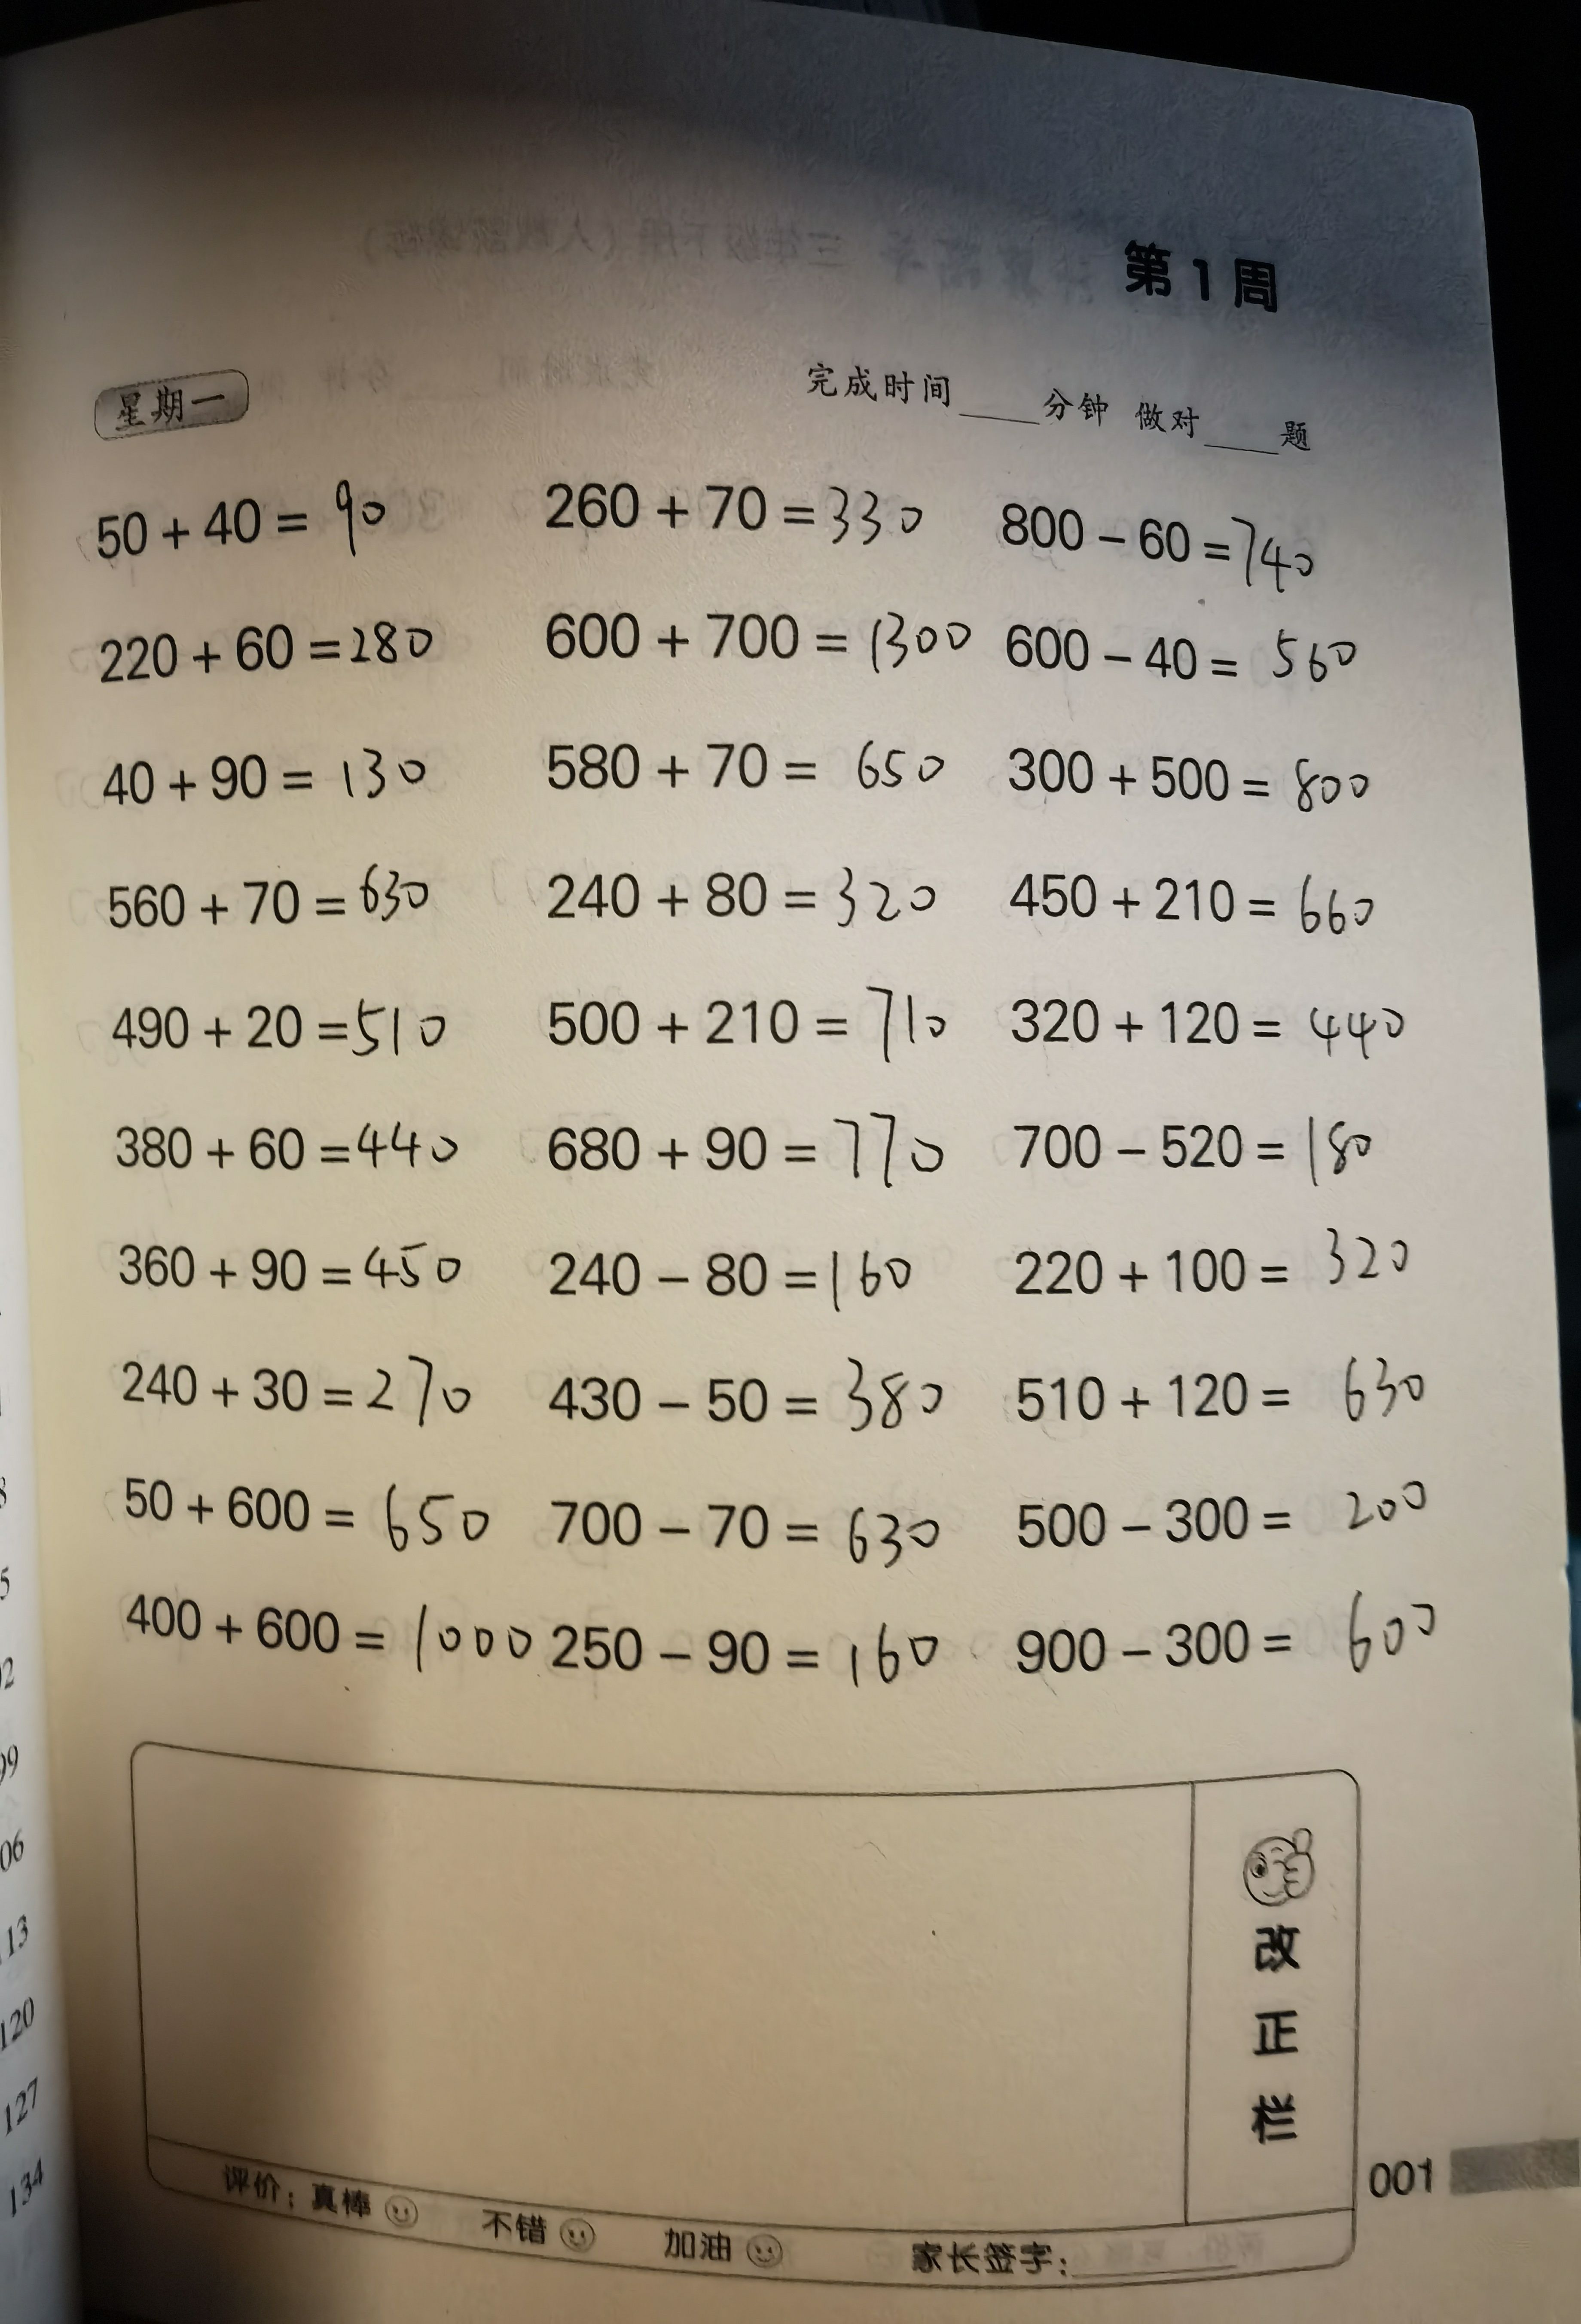equation: (101, 1574, 543, 1696), (97, 1442, 521, 1565), (524, 443, 942, 563), (92, 1089, 503, 1205), (97, 1322, 512, 1436), (510, 591, 978, 690), (545, 1472, 970, 1579), (552, 1601, 951, 1710), (95, 1219, 496, 1325), (528, 1357, 972, 1451), (1004, 1592, 1461, 1682), (1008, 1472, 1463, 1560), (538, 1108, 972, 1200), (512, 729, 983, 810), (1018, 1098, 1373, 1205), (540, 849, 962, 939), (526, 978, 981, 1061), (67, 487, 446, 584), (1009, 854, 1389, 951), (64, 859, 489, 946), (92, 976, 473, 1071), (1011, 981, 1424, 1066), (74, 734, 450, 824), (999, 1357, 1452, 1429), (1008, 732, 1378, 821), (64, 618, 478, 695), (1009, 612, 1366, 699), (1008, 1232, 1433, 1301), (993, 491, 1353, 563), (547, 1248, 932, 1311)
